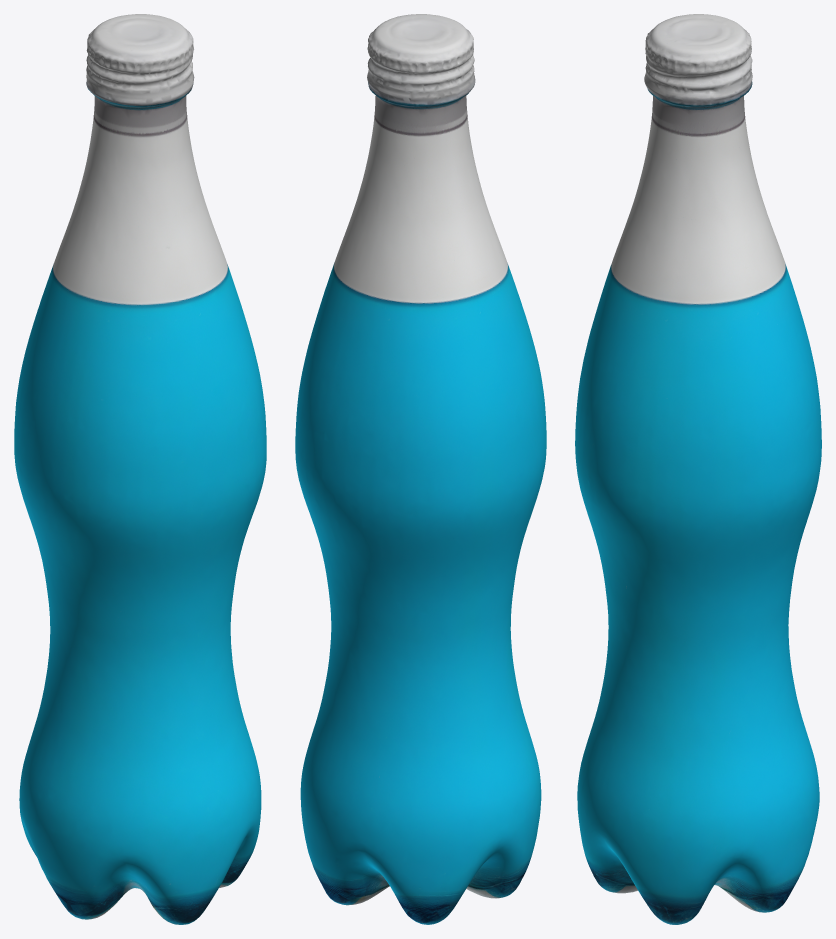
Rendered from cousin_4.glb.
3 renders of one model, left to right at view 1: azimuth 30°, elevation 25°; view 2: azimuth 150°, elevation 25°; view 3: azimuth 270°, elevation 25°, orthographic.
Size of the model in its own units: 0.4972 by 1.91 by 0.4976.
1 material, 1 textured.
